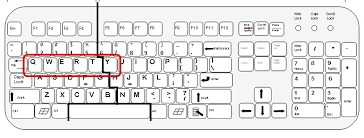keyboard: (1, 10, 364, 130)
